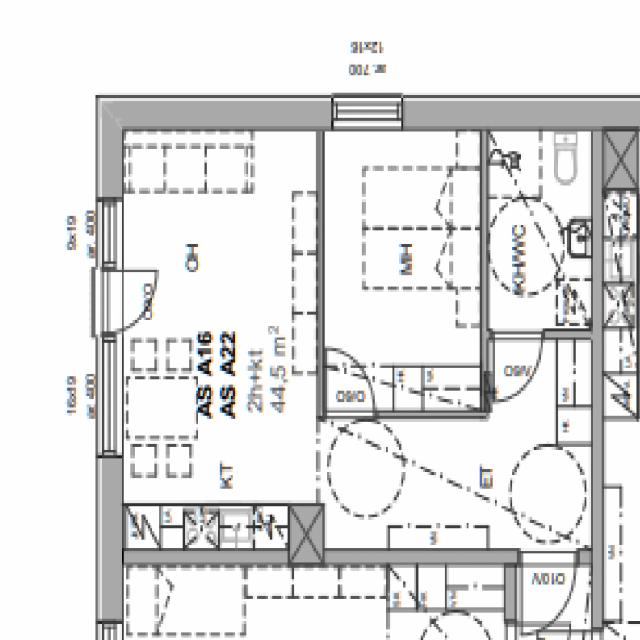door: (96, 269, 171, 331), (524, 550, 577, 633), (496, 330, 542, 400), (327, 350, 374, 418)
